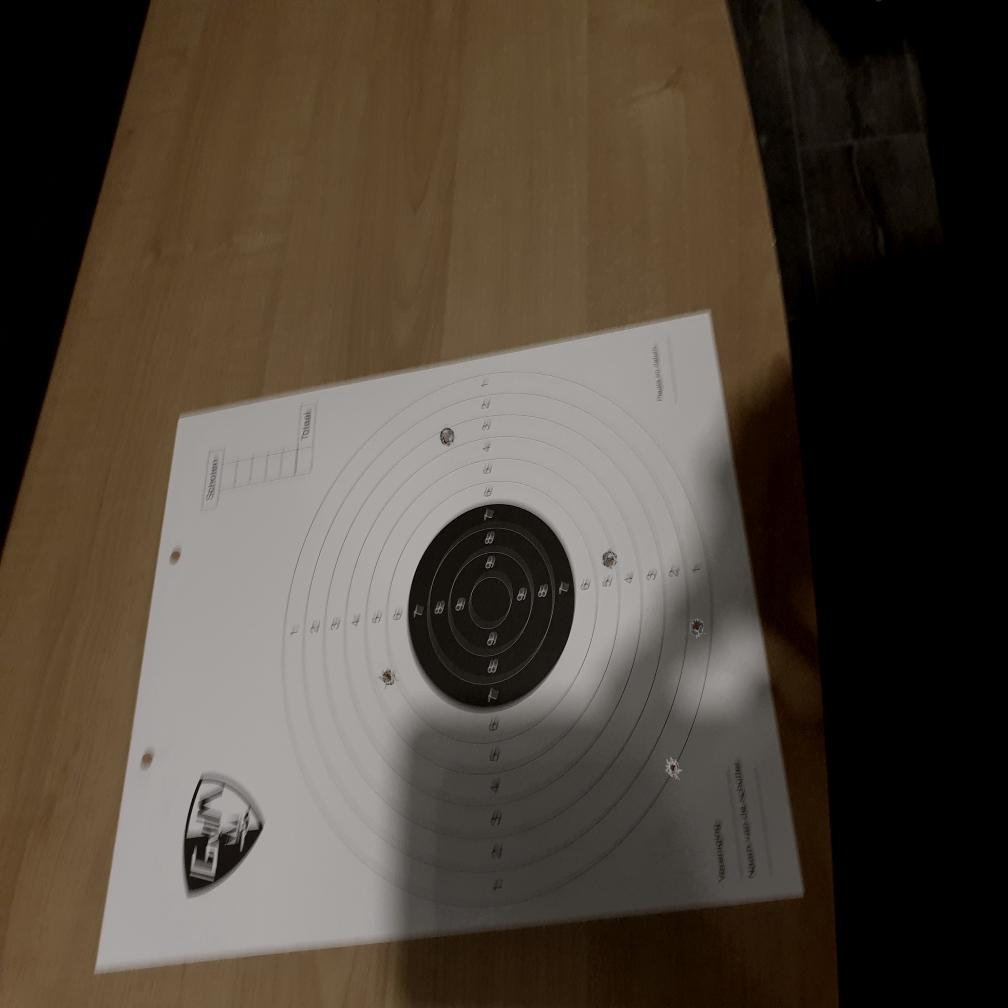1: (665, 756, 681, 778), (690, 618, 704, 638)
3: (440, 428, 455, 447)
5: (601, 549, 618, 569)
6: (379, 667, 399, 688)
Target: (279, 366, 715, 912)
black_contour: (406, 503, 576, 711)
